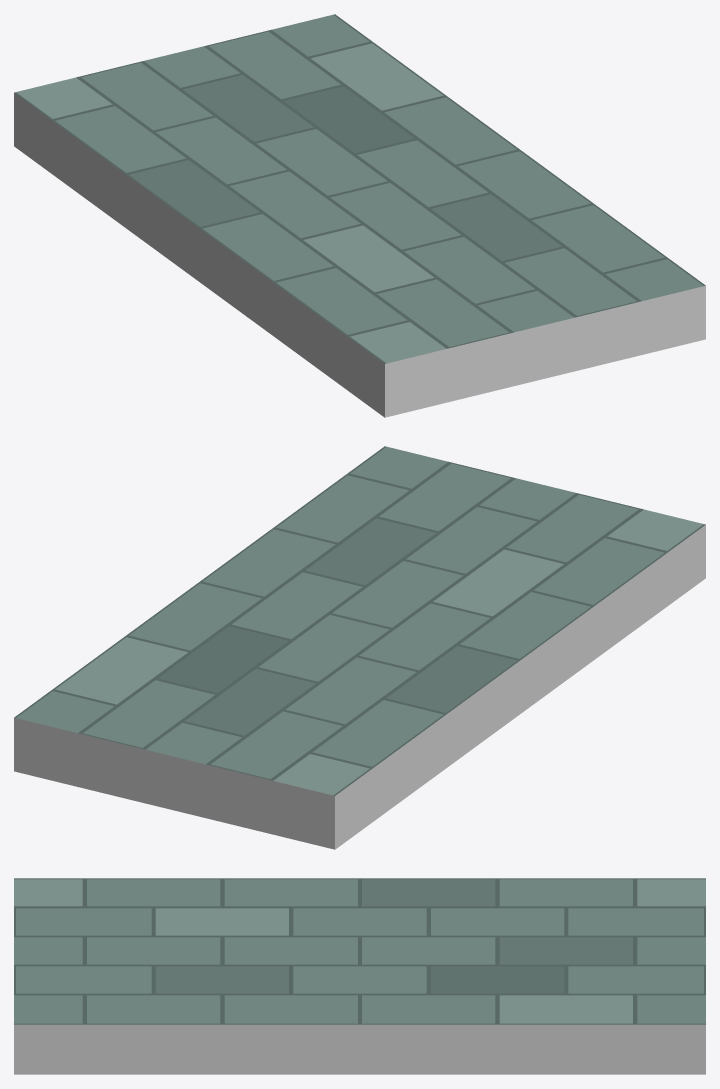
The model's file is Floor17_02.fbx.
The picture shows the model from 3 angles, top to bottom: view 1: azimuth 30°, elevation 25°; view 2: azimuth 150°, elevation 25°; view 3: azimuth 270°, elevation 25°; orthographic projection. The views are drawn at different scales.
Parts seen in each view (by area): view 1: Floor17_02; view 2: Floor17_02; view 3: Floor17_02.
Part boxes in pixels (box(x1,y1,x2,y2)): Floor17_02: box(14, 14, 705, 417); Floor17_02: box(14, 446, 705, 849); Floor17_02: box(14, 878, 705, 1074).
Bounding box in the file's own units: 125 × 20 × 250.
